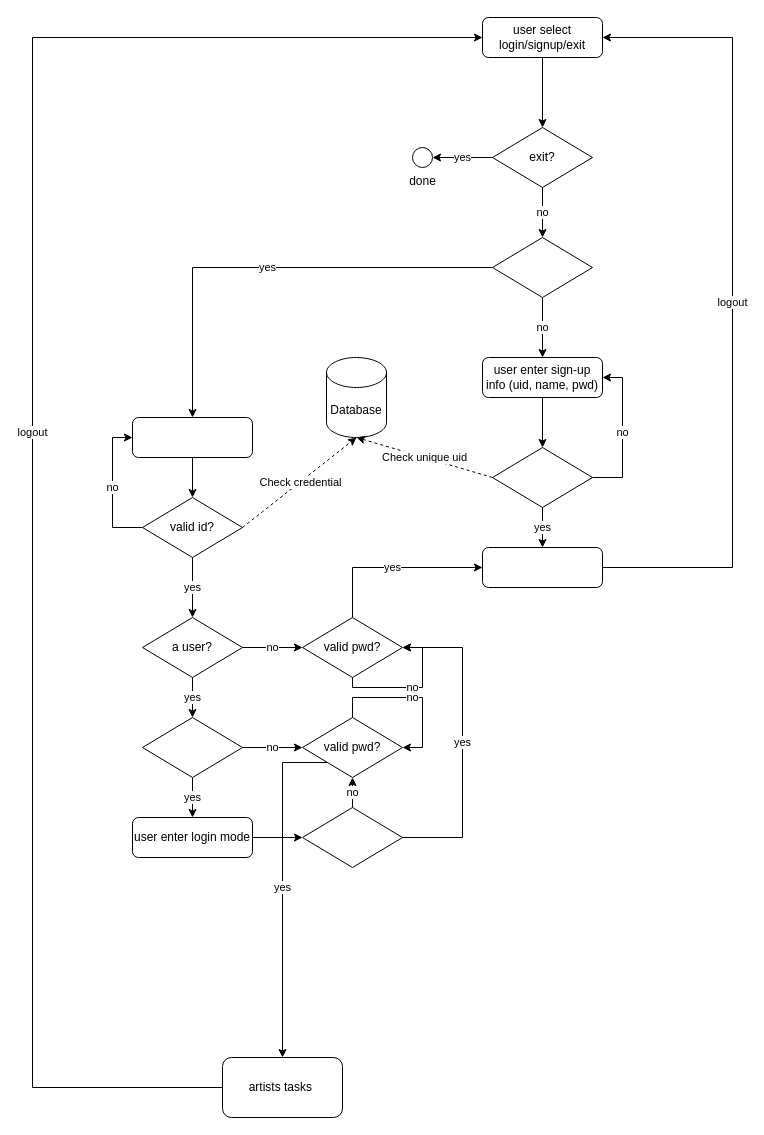
This 764x1135 diagram has some shape labels left out. Here are the shapes that lost their labels. From the top down, the box of each, then its label:
(492, 236, 592, 298): login?
(132, 416, 252, 458): enter login id & pwd
(492, 446, 592, 508): uid unique?
(482, 546, 602, 588): user tasks
(142, 716, 242, 778): an artist?
(302, 806, 402, 868): mode=user?
